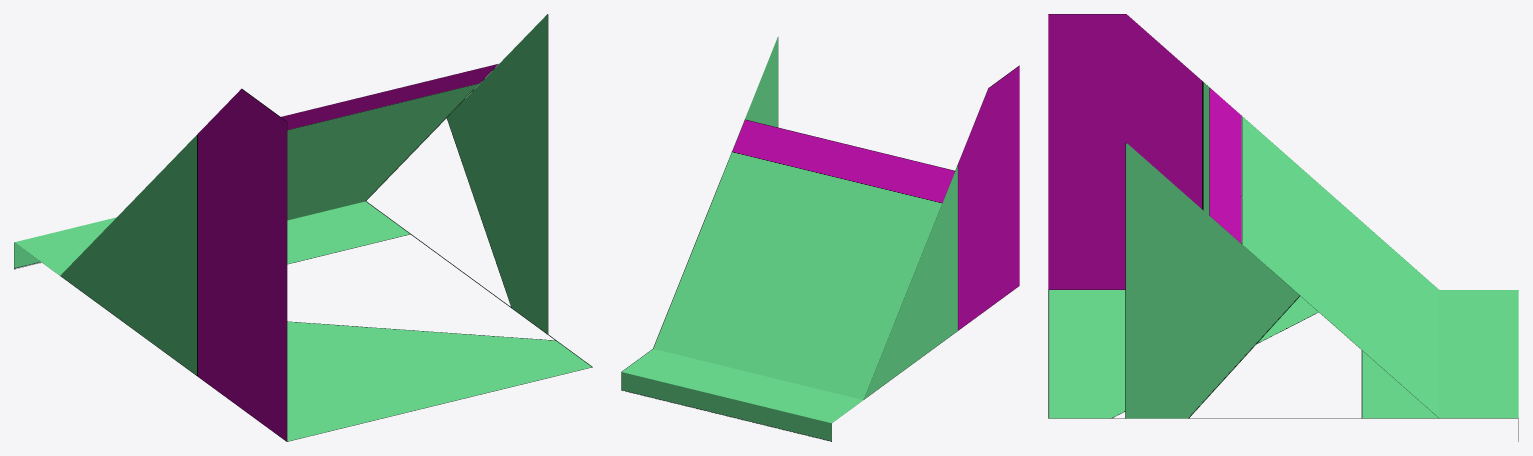
Rendered from wedge.obj.
The picture shows the model from 3 angles, left to right: view 1: azimuth 30°, elevation 25°; view 2: azimuth 150°, elevation 25°; view 3: azimuth 270°, elevation 25°; orthographic projection. The views are drawn at different scales.
Visible parts, largest first — view 1: Cube.001_Cube.002; view 2: Cube.001_Cube.002; view 3: Cube.001_Cube.002.
Boxes of the visible parts, left/top/right/bottom form: Cube.001_Cube.002: left=14, top=14, right=592, bottom=441; Cube.001_Cube.002: left=621, top=37, right=1019, bottom=441; Cube.001_Cube.002: left=1048, top=14, right=1518, bottom=441.
Bounding box in the file's own units: 11.82 × 12.82 × 18.26.
